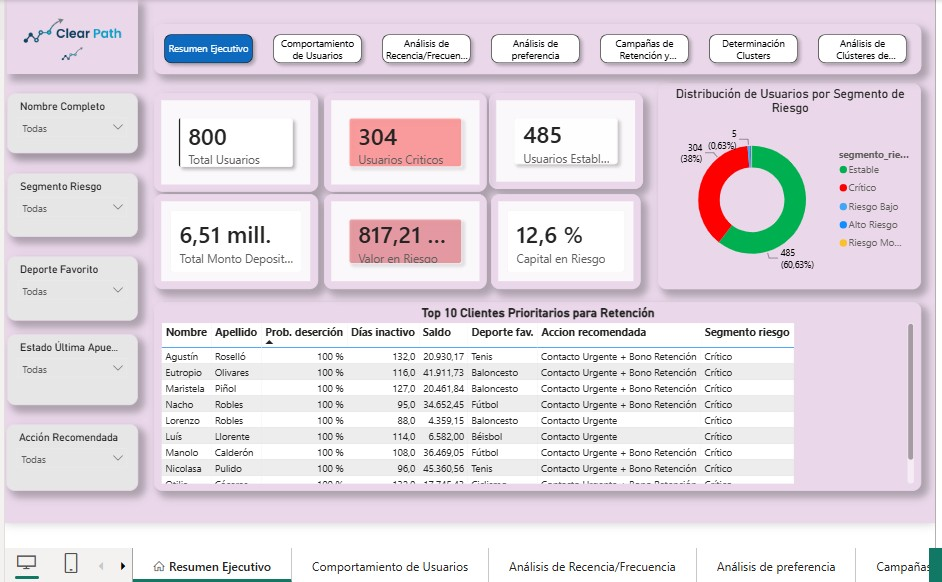

Layout of this report page (visuals, bound fields, positions):
{"tool":"powerbi","page":{"name":"Resumen Ejecutivo","canvas":[1280,720],"ordinal":0},"visuals":[{"type":"cardVisual","fields":{"Data":["churn.Total_Usuarios"]},"box":[205.1,128,225.7,136.3],"z":0},{"type":"cardVisual","fields":{"Data":["churn.Usuarios_Criticos"]},"box":[439.1,128,224.3,136.3],"z":1000},{"type":"cardVisual","fields":{"Data":["churn.Usuarios_Estables"]},"box":[666.2,128,212,132.1],"z":2000},{"type":"donutChart","title":"Distribución de Usuarios por Segmento de Riesgo","fields":{"Category":["churn.segmento_riesgo"],"Y":["churn.Total_Usuarios"]},"box":[898.8,114.2,362,283.5],"z":3000},{"type":"tableEx","title":"Top 10 Clientes Prioritarios para Retención","fields":{"Values":["churn.nombre","churn.apellido","churn.probabilidad_fuga","churn.dias_desde_ultima_apuesta","churn.saldo","churn.deporte_favorito","churn.accion_recomendada","churn.segmento_riesgo"]},"box":[205.1,415.7,1055.7,260.1],"z":4000},{"type":"cardVisual","fields":{"Data":["churn.Total_Monto_Depositado"]},"box":[205.1,267,225.7,130.8],"z":5000},{"type":"cardVisual","fields":{"Data":["churn.Valor_en_Riesgo"]},"box":[439.1,267,224.3,130.8],"z":6000},{"type":"cardVisual","fields":{"Data":["churn.%_Capital_en_Riesgo"]},"box":[668.9,267,206.5,130.8],"z":7000},{"type":"pageNavigator","box":[205.1,33,1055.7,68.8],"z":8000},{"type":"slicer","fields":{"Values":["churn.segmento_riesgo"]},"box":[2.8,238.1,180.3,88.1],"z":9000},{"type":"slicer","fields":{"Values":["churn.deporte_favorito"]},"box":[2.8,352.3,180.3,89.5],"z":10000},{"type":"slicer","fields":{"Values":["churn.ultima_apuesta_estado"]},"box":[2.8,459.7,180.3,97.7],"z":11000},{"type":"slicer","fields":{"Values":["churn.Nombre_Completo"]},"box":[2.8,128,180.3,82.6],"z":12000},{"type":"slicer","fields":{"Values":["churn.accion_recomendada"]},"box":[1.4,583.6,181.7,92.2],"z":13000},{"type":"image","box":[2.8,0,180.3,101.8],"z":14000}]}

Visuals, with their boxes on the page's 1280x720 design canvas (x1, y1, x2, y2). These are canvas units, not pixel positions in the 942x582 screenshot, which may show the page scaled, cropped or inside an application window:
cardVisual - churn.Total_Usuarios: bbox=(205, 128, 431, 264)
cardVisual - churn.Usuarios_Criticos: bbox=(439, 128, 663, 264)
cardVisual - churn.Usuarios_Estables: bbox=(666, 128, 878, 260)
"Distribución de Usuarios por Segmento de Riesgo" donutChart: bbox=(899, 114, 1261, 398)
"Top 10 Clientes Prioritarios para Retención" tableEx: bbox=(205, 416, 1261, 676)
cardVisual - churn.Total_Monto_Depositado: bbox=(205, 267, 431, 398)
cardVisual - churn.Valor_en_Riesgo: bbox=(439, 267, 663, 398)
cardVisual - churn.%_Capital_en_Riesgo: bbox=(669, 267, 875, 398)
pageNavigator: bbox=(205, 33, 1261, 102)
slicer - churn.segmento_riesgo: bbox=(3, 238, 183, 326)
slicer - churn.deporte_favorito: bbox=(3, 352, 183, 442)
slicer - churn.ultima_apuesta_estado: bbox=(3, 460, 183, 557)
slicer - churn.Nombre_Completo: bbox=(3, 128, 183, 211)
slicer - churn.accion_recomendada: bbox=(1, 584, 183, 676)
image: bbox=(3, 0, 183, 102)
